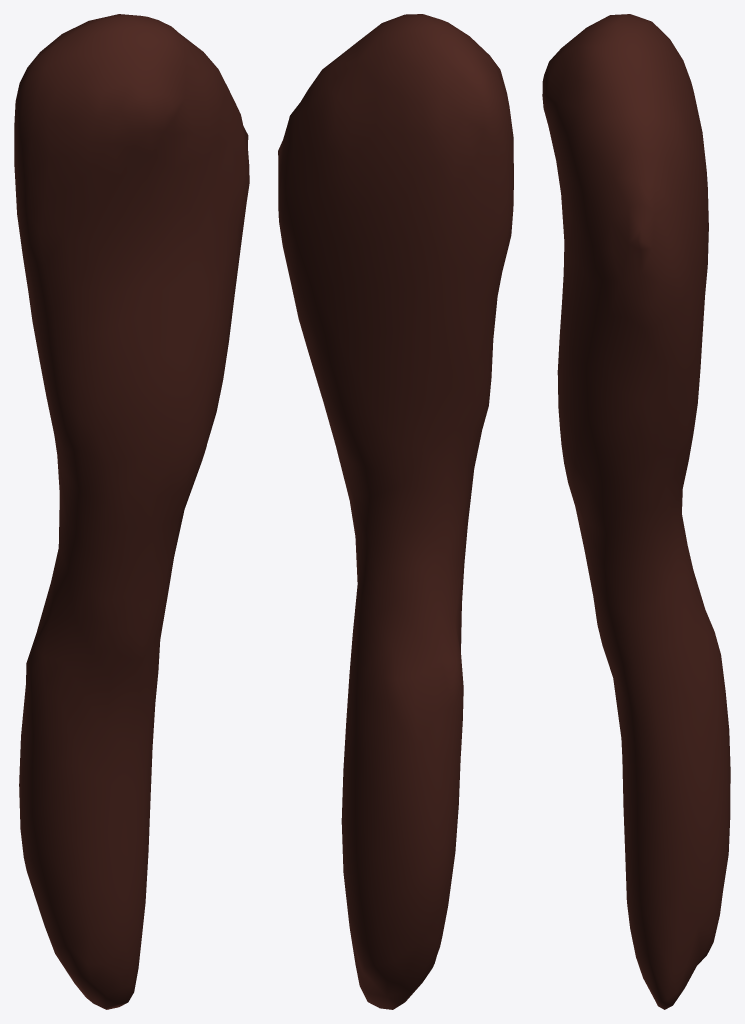
The model's file is urethra_ge.obj.
3 renders of one model, left to right at view 1: azimuth 30°, elevation 25°; view 2: azimuth 150°, elevation 25°; view 3: azimuth 270°, elevation 25°, orthographic. The views are drawn at different scales.
Parts seen in each view (by area): view 1: urethra; view 2: urethra; view 3: urethra.
Part boxes in pixels (x1=…): urethra: x1=14, y1=14, x2=249, y2=1009; urethra: x1=278, y1=14, x2=513, y2=1009; urethra: x1=542, y1=14, x2=730, y2=1009.
Bounding box in the file's own units: 1.49 × 6.23 × 1.09.
